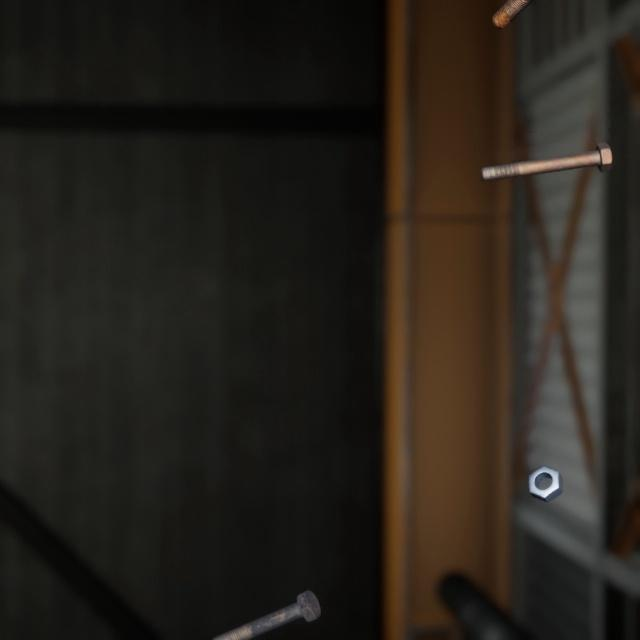bolt: (207, 560, 325, 632), (475, 124, 616, 172), (487, 0, 532, 28)
nut: (524, 439, 567, 486)
